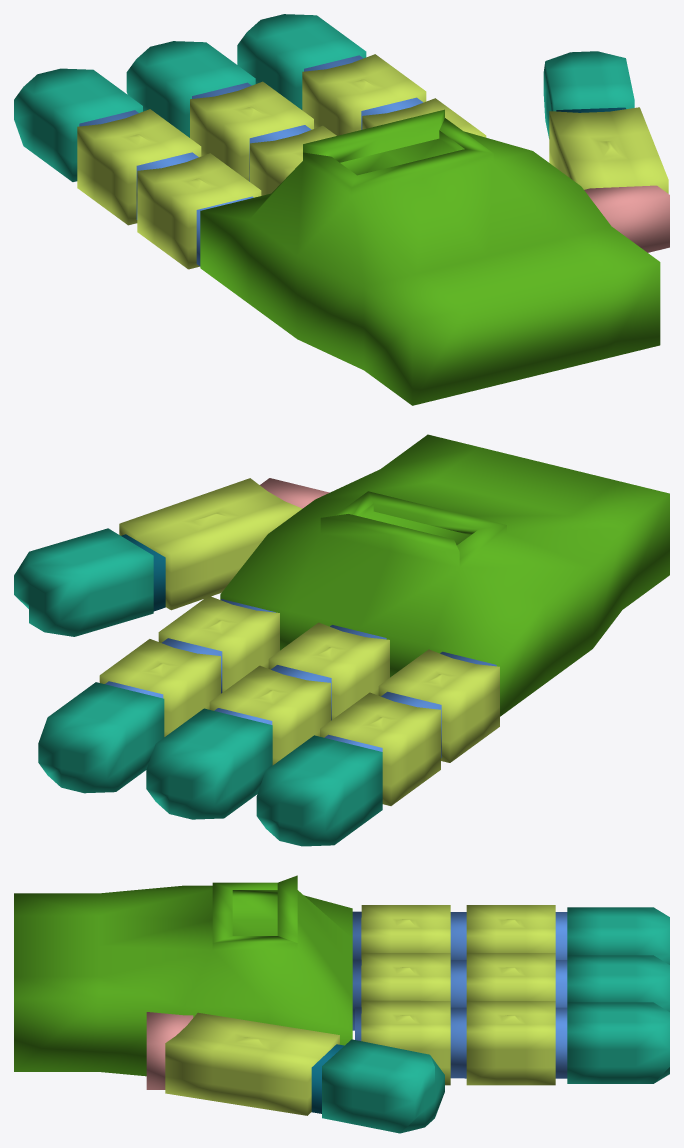
Rendered from left hand obj.obj.
3 renders of one model, top to bottom at view 1: azimuth 30°, elevation 25°; view 2: azimuth 150°, elevation 25°; view 3: azimuth 270°, elevation 25°, orthographic. The views are drawn at different scales.
Visible parts, largest first — view 1: Box003, Box020, Box007, Box008, Box009, Box014, Box013, Box016, Box012, Box019, Box021, Box017 (+4 smaller); view 2: Box003, Box020, Box019, Box007, Box014, Box013, Box009, Box008, Box016, Box017, Box012, Box011 (+5 smaller); view 3: Box003, Box020, Box019, Box013, Box012, Box007, Box014, Box011, Box009, Box017, Box008, Box016 (+5 smaller).
Boxes of the visible parts, x1=… form: Box003: x1=200, y1=109, x2=660, y2=405; Box020: x1=549, y1=107, x2=668, y2=193; Box007: x1=14, y1=68, x2=142, y2=181; Box008: x1=77, y1=109, x2=201, y2=225; Box009: x1=137, y1=153, x2=261, y2=269; Box014: x1=126, y1=41, x2=255, y2=137; Box013: x1=237, y1=14, x2=366, y2=109; Box016: x1=190, y1=81, x2=313, y2=181; Box012: x1=302, y1=54, x2=426, y2=135; Box019: x1=543, y1=51, x2=634, y2=138; Box021: x1=584, y1=185, x2=669, y2=252; Box017: x1=250, y1=125, x2=336, y2=195; Box003: x1=220, y1=434, x2=669, y2=716; Box020: x1=119, y1=478, x2=302, y2=610; Box019: x1=14, y1=528, x2=153, y2=636; Box007: x1=256, y1=735, x2=382, y2=846; Box014: x1=146, y1=708, x2=272, y2=819; Box013: x1=38, y1=682, x2=164, y2=793; Box009: x1=378, y1=649, x2=499, y2=762; Box008: x1=320, y1=692, x2=440, y2=805; Box016: x1=209, y1=665, x2=330, y2=765; Box017: x1=268, y1=622, x2=389, y2=719; Box012: x1=99, y1=639, x2=220, y2=736; Box011: x1=158, y1=595, x2=279, y2=692; Box003: x1=14, y1=875, x2=352, y2=1076; Box020: x1=165, y1=1012, x2=339, y2=1115; Box019: x1=322, y1=1039, x2=444, y2=1133; Box013: x1=567, y1=1002, x2=669, y2=1083; Box012: x1=466, y1=1001, x2=555, y2=1085; Box007: x1=567, y1=907, x2=669, y2=964; Box014: x1=567, y1=955, x2=669, y2=1011; Box011: x1=361, y1=1000, x2=450, y2=1085; Box009: x1=361, y1=905, x2=450, y2=959; Box017: x1=361, y1=953, x2=450, y2=1006; Box008: x1=466, y1=905, x2=555, y2=952; Box016: x1=466, y1=953, x2=555, y2=1000.
Bounding box in the file's own units: 76.07 × 20.73 × 106.
